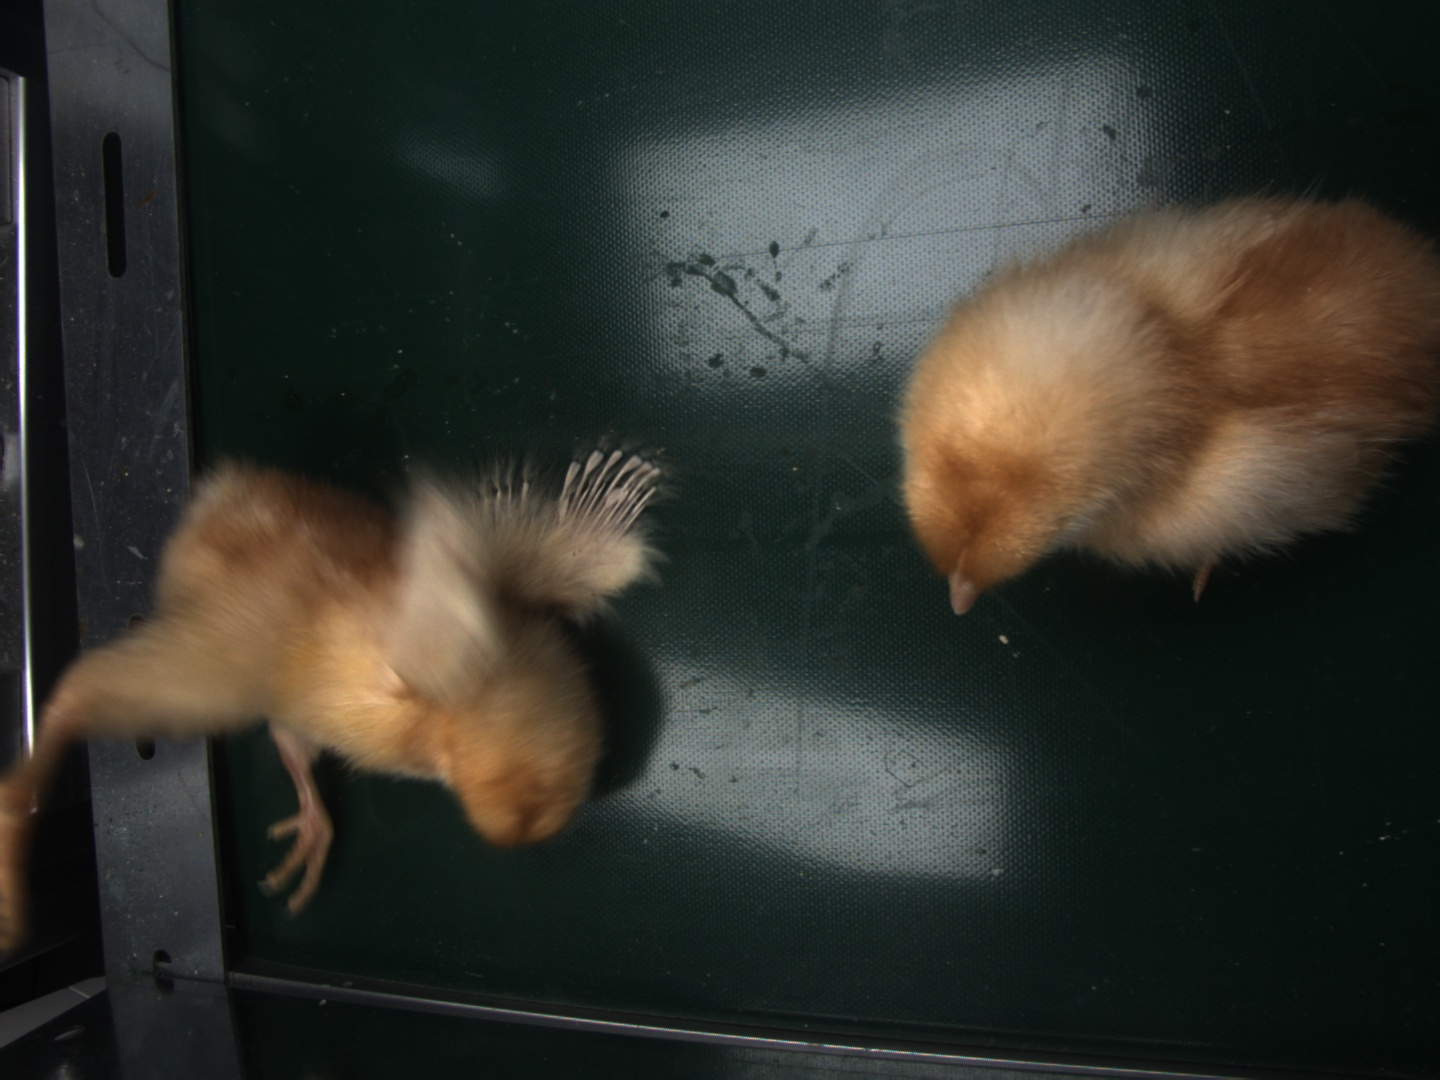female: (553, 448, 660, 533)
